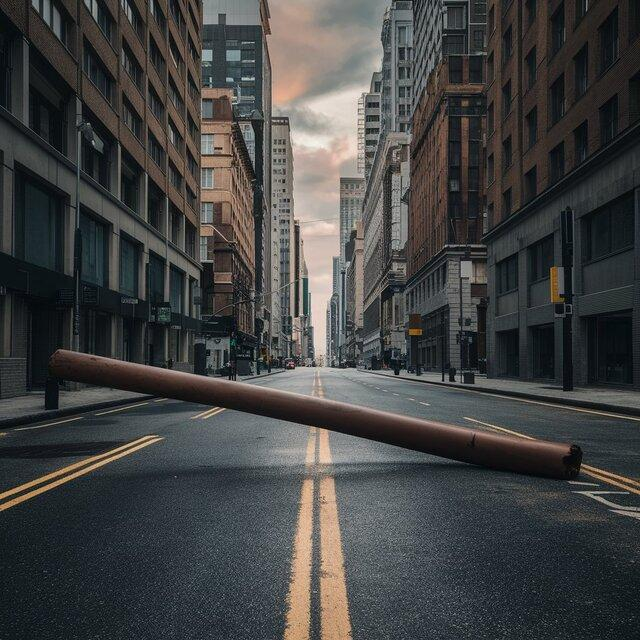Inclined Pole: (52, 345, 581, 476)
